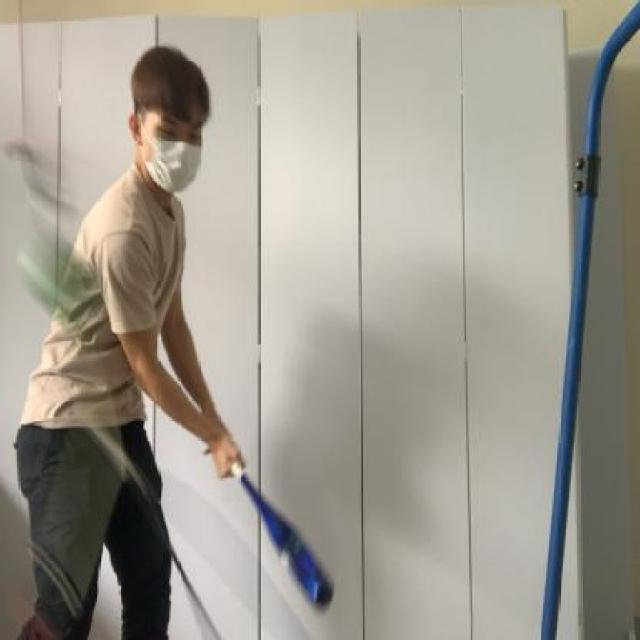baseball: (5, 218, 98, 332)
